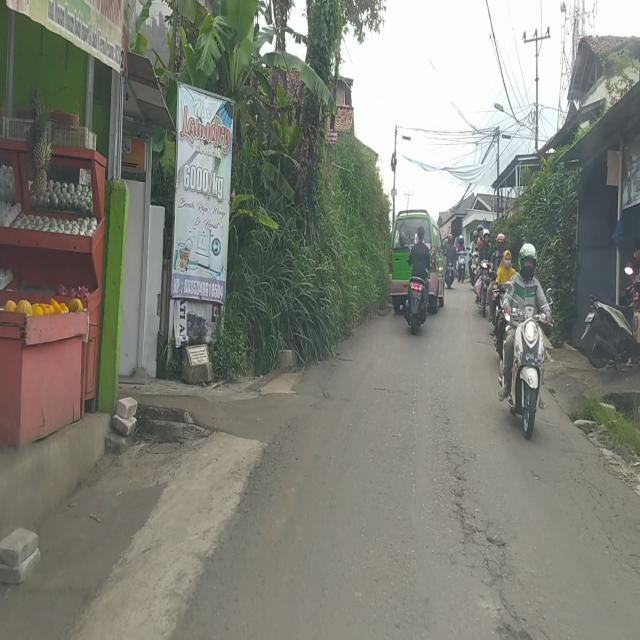Drain Hole: (429, 412, 531, 640), (556, 435, 640, 582)
